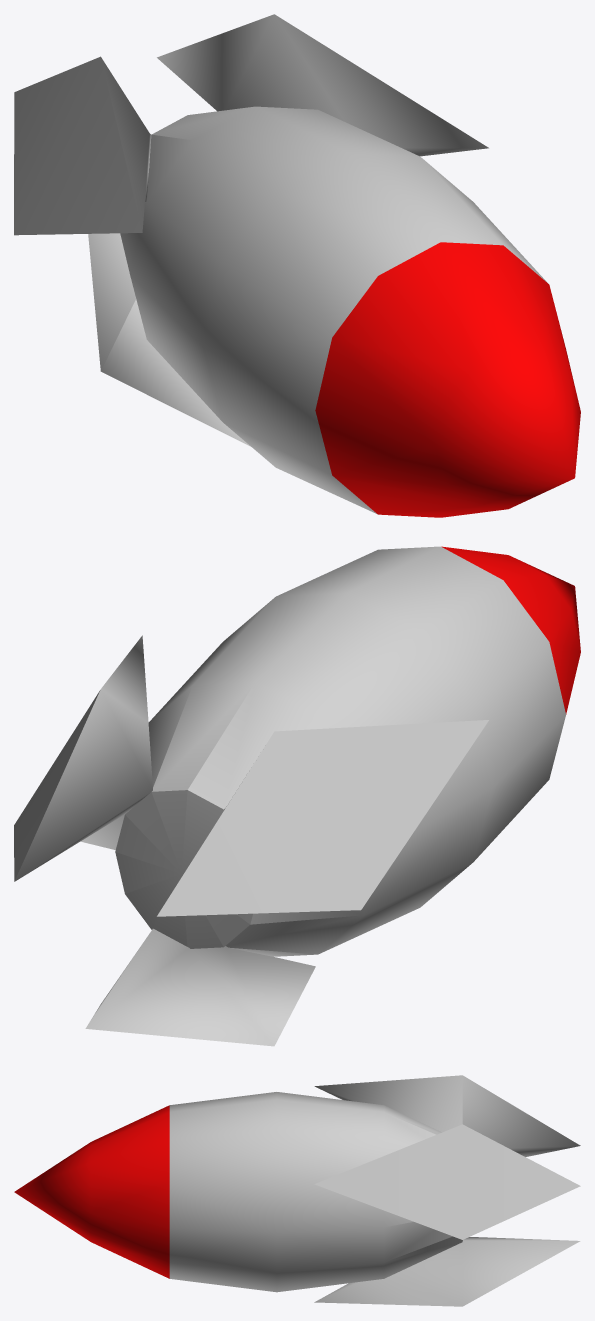
The model's file is rocket.fbx.
3 renders of one model, top to bottom at view 1: azimuth 30°, elevation 25°; view 2: azimuth 150°, elevation 25°; view 3: azimuth 270°, elevation 25°, orthographic. The views are drawn at different scales.
Parts seen in each view (by area): view 1: rocket, rocket_front; view 2: rocket, rocket_front; view 3: rocket, rocket_front.
Part boxes in pixels (x1,y1,x2,y2): rocket: (14,14,548,514); rocket_front: (315,242,580,517); rocket: (14,546,565,1046); rocket_front: (441,546,580,714); rocket: (169,1075,580,1306); rocket_front: (14,1105,169,1278).
Size of the model in its own units: 3.12 by 3 by 7.61.
